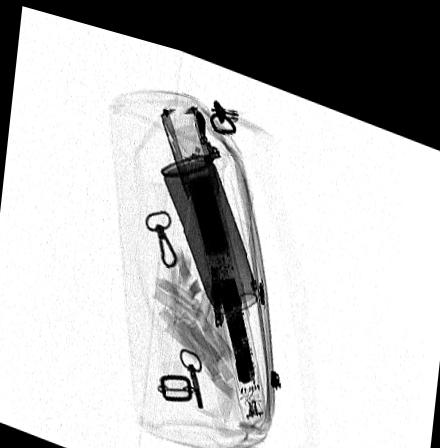Baton: (159, 94, 269, 411)
